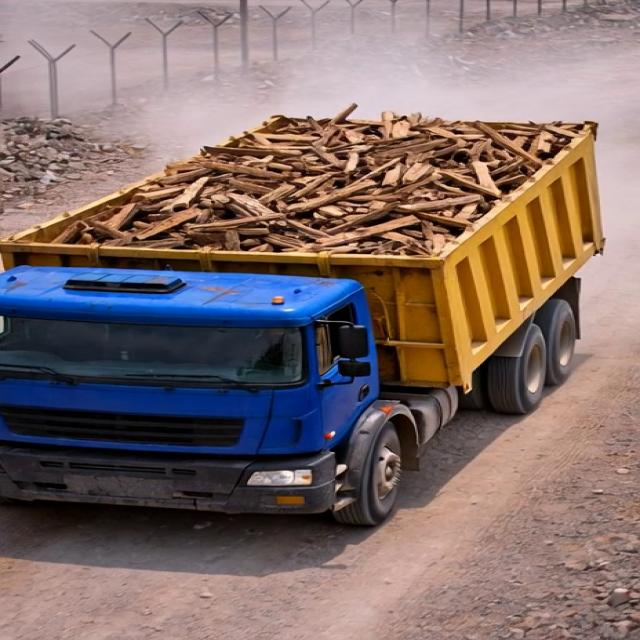trailer: (11, 105, 596, 251)
truck: (3, 84, 631, 521)
